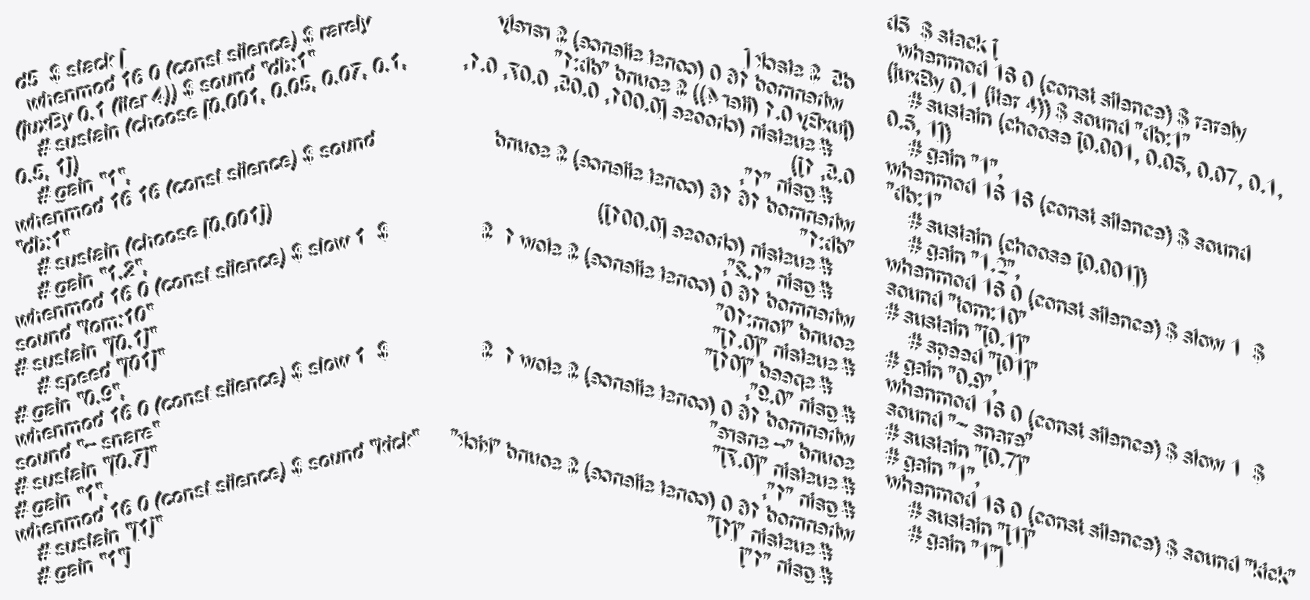
File: alexandra_cardenas_livecoding_d5.glb
3 renders of one model, left to right at view 1: azimuth 30°, elevation 25°; view 2: azimuth 150°, elevation 25°; view 3: azimuth 330°, elevation 25°, orthographic.
Parts seen in each view (by area): view 1: Object_3, Object_2; view 2: Object_3, Object_2; view 3: Object_3, Object_2.
Boxes of the visible parts, x1,y1,x2,y2 form: Object_3: [14, 14, 419, 585]; Object_2: [18, 17, 420, 585]; Object_3: [450, 14, 855, 585]; Object_2: [449, 17, 851, 585]; Object_3: [884, 14, 1295, 585]; Object_2: [884, 16, 1291, 585].
Size of the model in its own units: 3.24 by 4 by 0.051.
2 materials, 1 textured.
